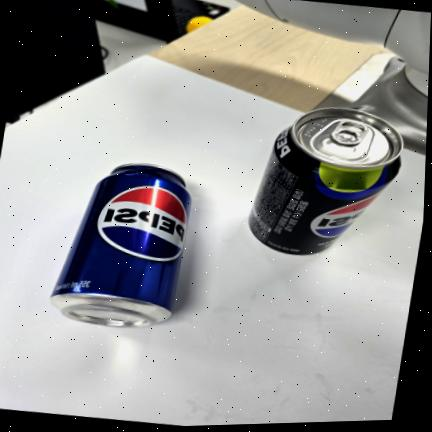can_pepsi: (50, 163, 191, 327)
can_pepsi_zero: (248, 108, 402, 254)
